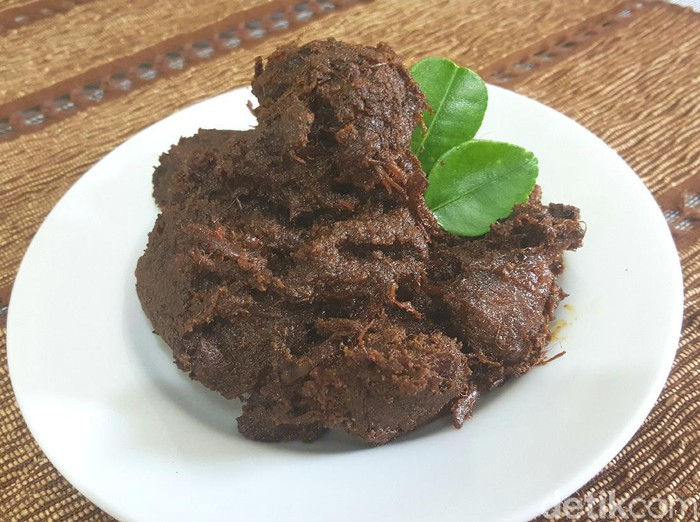rendang: (134, 32, 620, 455)
